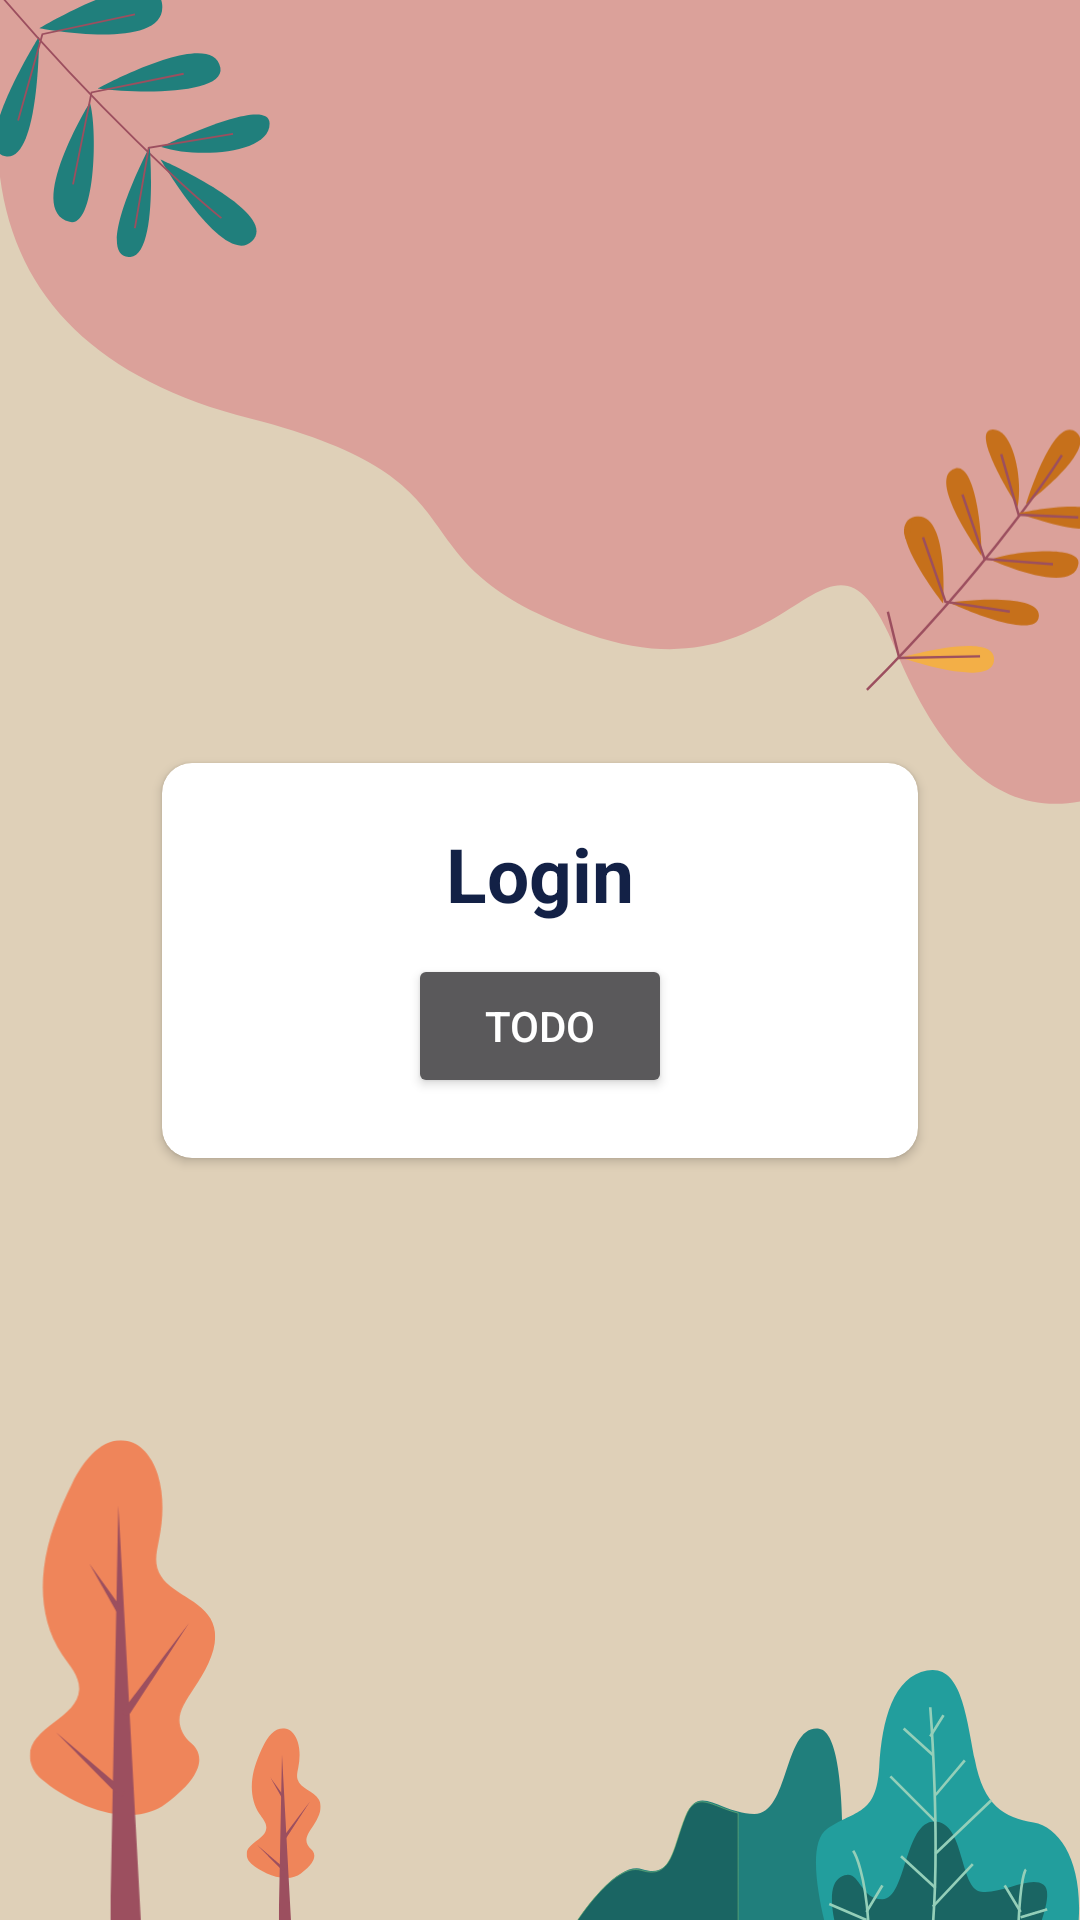

Named icons in this screenshot (1080×1920) and their centers, [x,y]:
intro leaf: [135,128], [972,560]
